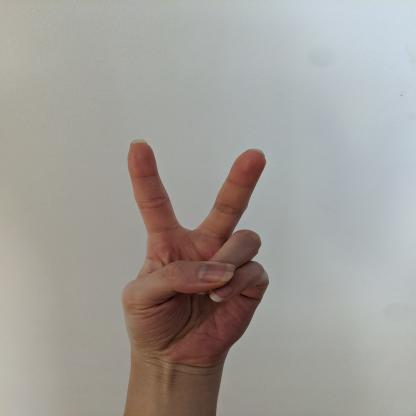V: (117, 137, 274, 374)
